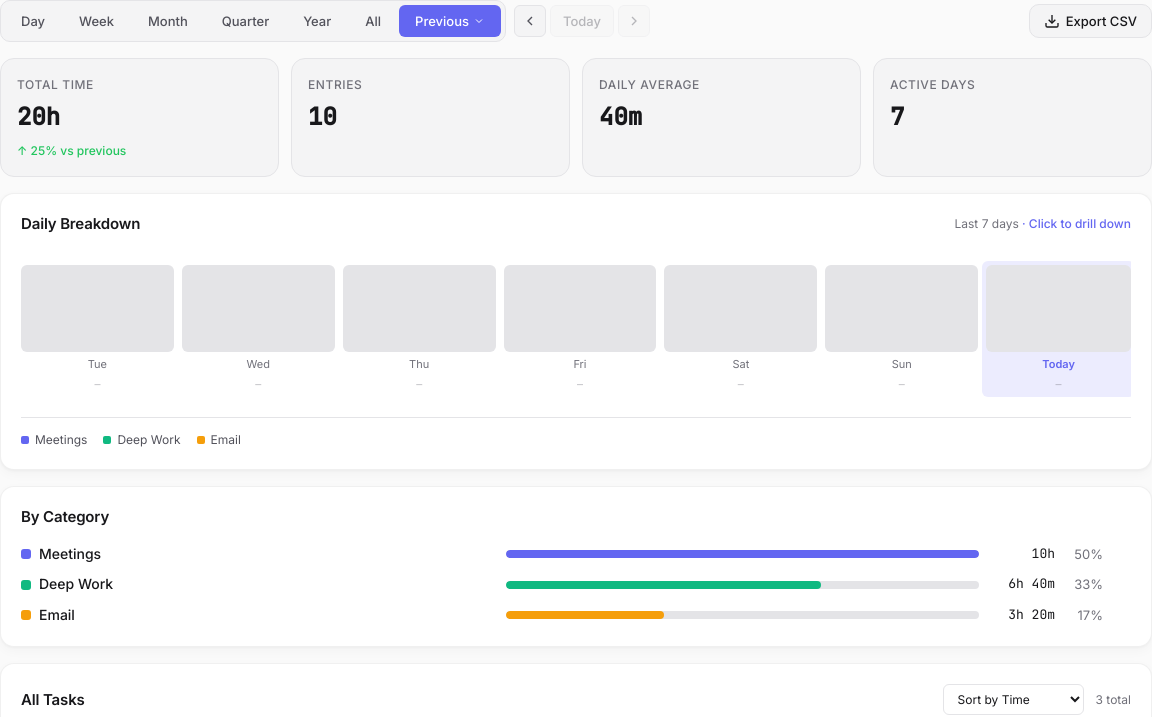
Scenario: Analytics › shows weekly breakdown for month view
The width and height of the screenshot is (1164, 717).
Expected: the text "Total Time" is shown, [17,77,94,92]
Note: Click on Month period
Click the button "Month" at (168, 21), box [132,5,204,37]
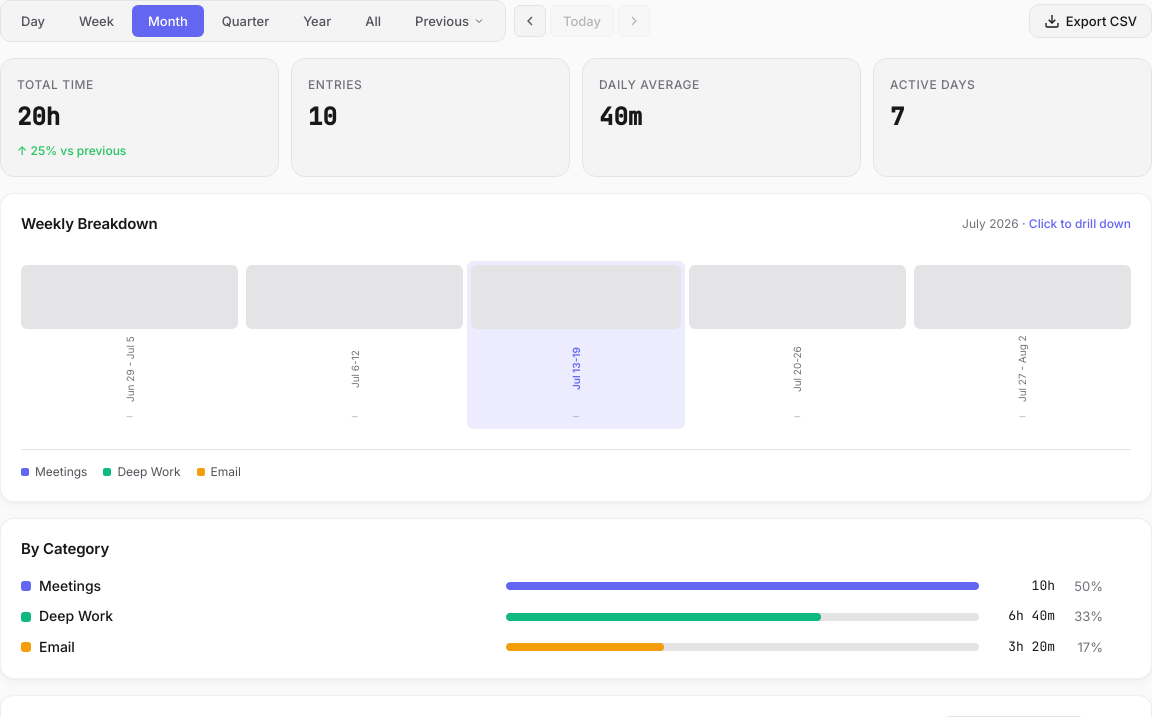
Expected: the heading "Weekly Breakdown" is shown, [21,214,158,233]
Expected: the text "July 2026 · Click to drill down" is shown, [962,214,1131,233]
